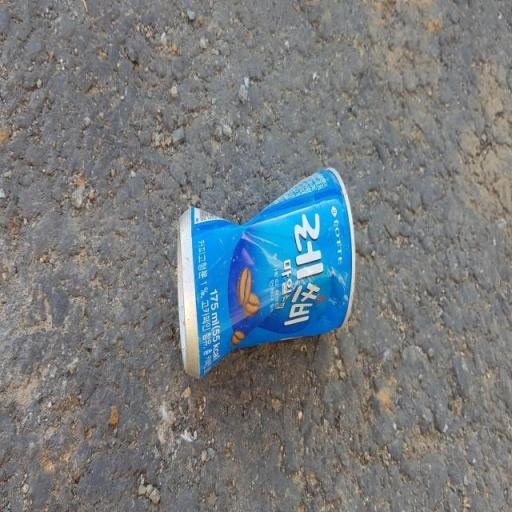metal: (160, 120, 374, 434)
